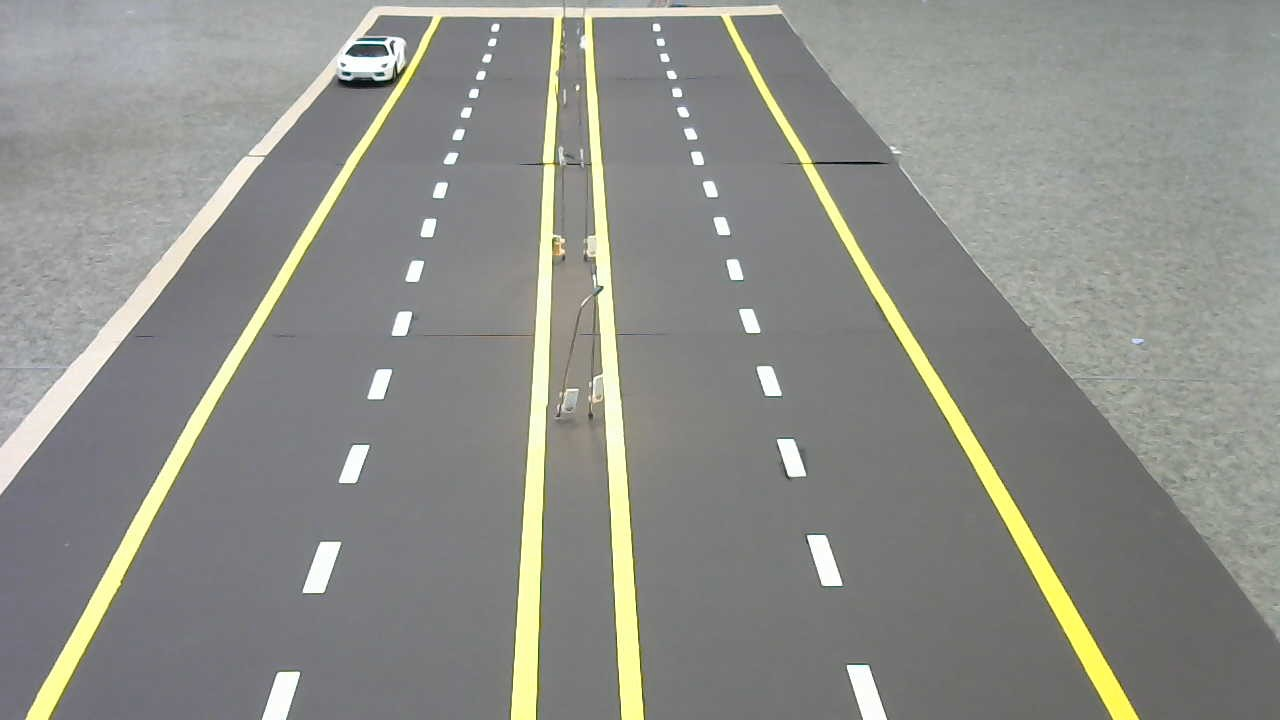front_car: (334, 33, 408, 91)
